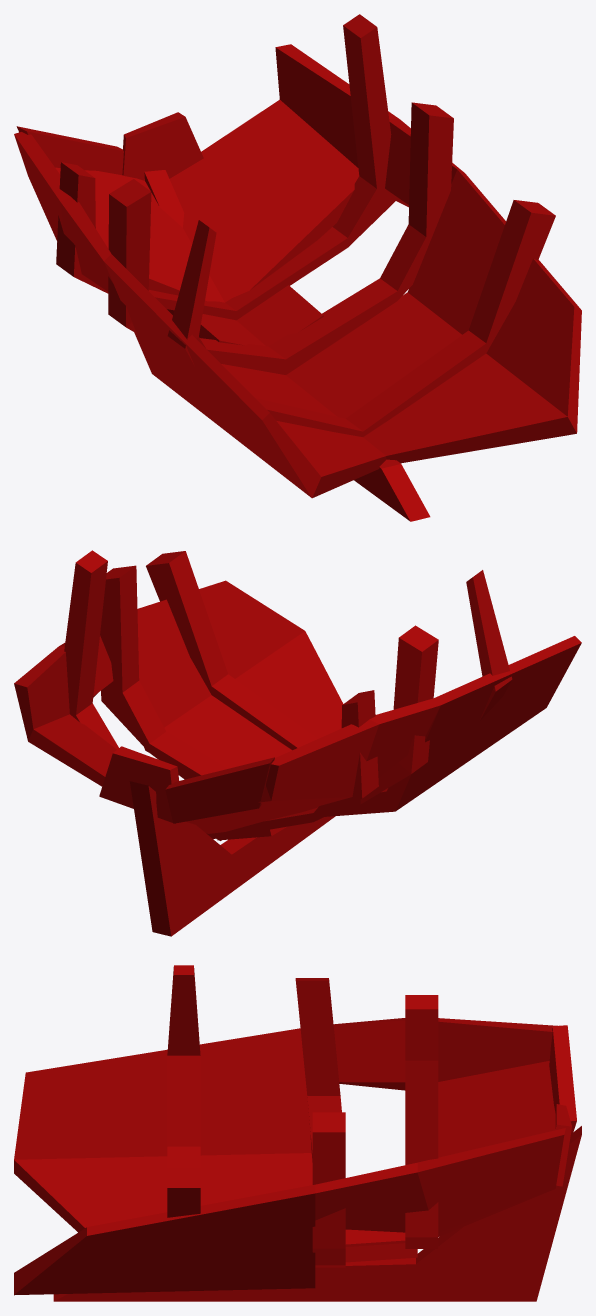
The model's file is SM_Prop_ShipWreck_02_Collision.glb.
The picture shows the model from 3 angles, top to bottom: view 1: azimuth 30°, elevation 25°; view 2: azimuth 150°, elevation 25°; view 3: azimuth 270°, elevation 25°; orthographic projection. The views are drawn at different scales.
Parts seen in each view (by area): view 1: SM_Prop_ShipWreck_02_Collision; view 2: SM_Prop_ShipWreck_02_Collision; view 3: SM_Prop_ShipWreck_02_Collision.
Part boxes in pixels (bbox=[...]): SM_Prop_ShipWreck_02_Collision: bbox=[14, 14, 581, 521]; SM_Prop_ShipWreck_02_Collision: bbox=[14, 550, 581, 936]; SM_Prop_ShipWreck_02_Collision: bbox=[14, 965, 581, 1301].
Size of the model in its own units: 8.63 by 7.08 by 12.08.
